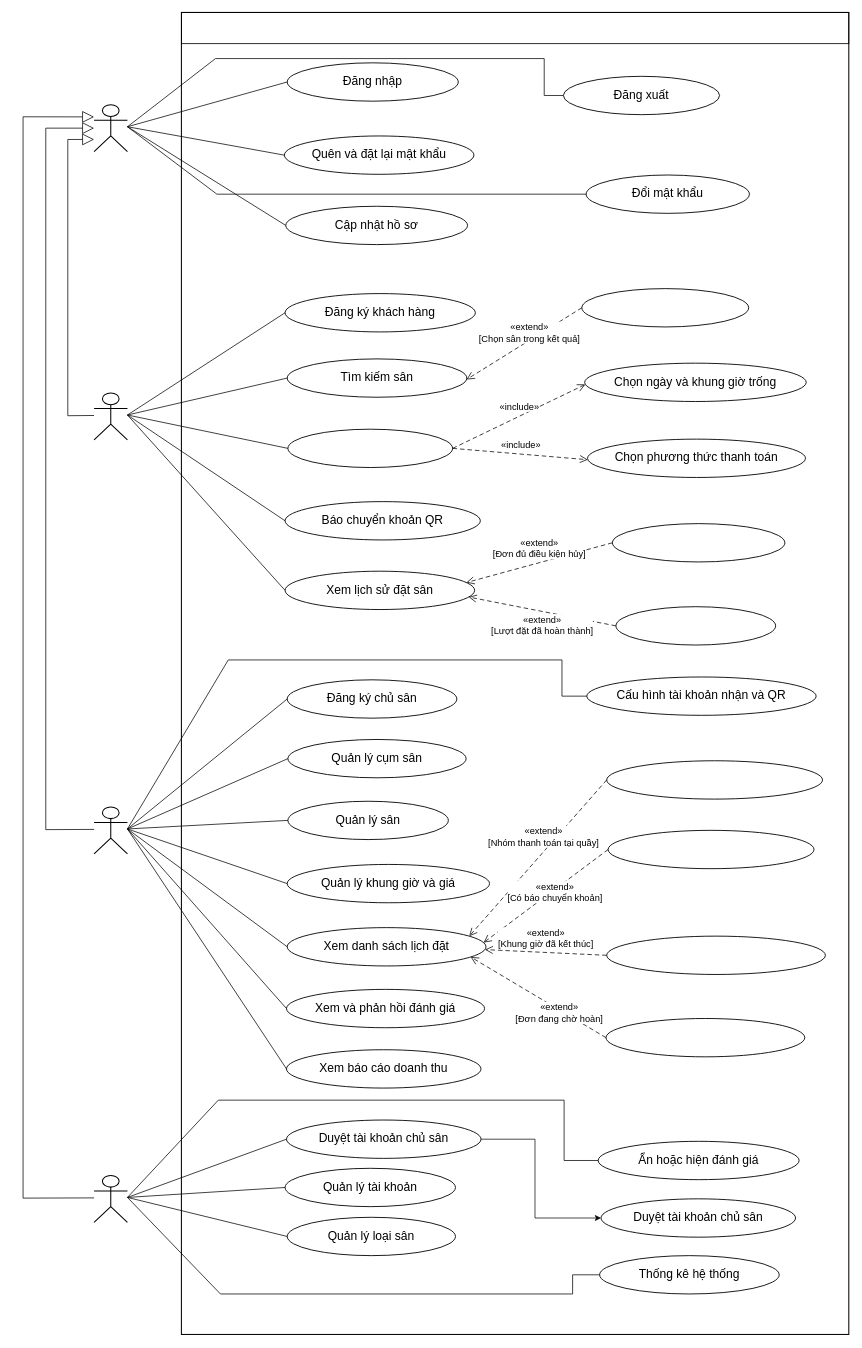
Some shapes in this 862 by 1348 pixel diagram are drawn without their labels. The shapes that lost their labels are listed below. From the top down, each one's box as (x1, y1, x2, y2) in pixels, then its label:
(181, 12, 849, 44): Hệ thống quản lý đặt sân thể thao SportBooking
(93, 104, 128, 152): Người dùng
(581, 288, 749, 327): Xem chi tiết sân
(93, 392, 128, 440): Khách hàng
(287, 428, 453, 468): Đặt sân
(612, 523, 785, 562): Hủy lượt đặt sân
(615, 606, 776, 645): Đánh giá sân
(606, 760, 823, 799): Xác nhận đã thu tiền tại quầy
(93, 806, 128, 854): Chủ sân
(607, 830, 814, 869): Đối soát chuyển khoản QR
(606, 935, 826, 975): Đánh dấu lượt đặt hoàn thành
(605, 1018, 805, 1057): Xác nhận đã hoàn tiền
(93, 1175, 128, 1222): Quản trị viên
